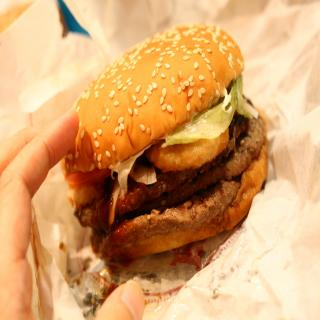Hamburger: (60, 27, 268, 263)
